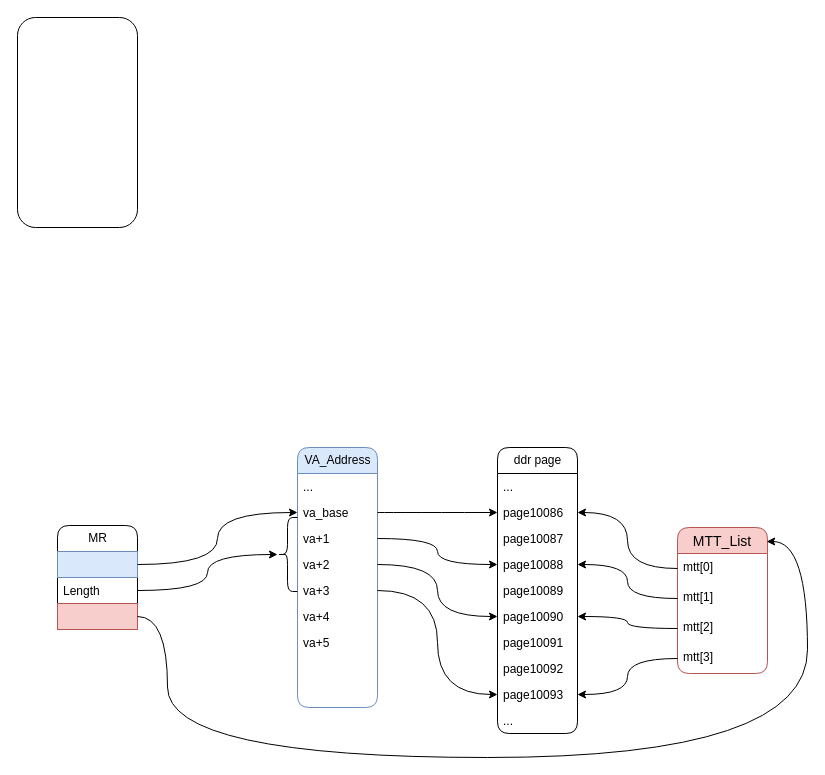
This 825x775 diagram has some shape labels left out. The shapes that lost their labels are listed below. From the top down, each one's centre as x and y in pixels, then its label:
the point at 97,564: VA
the point at 97,616: PA_list
